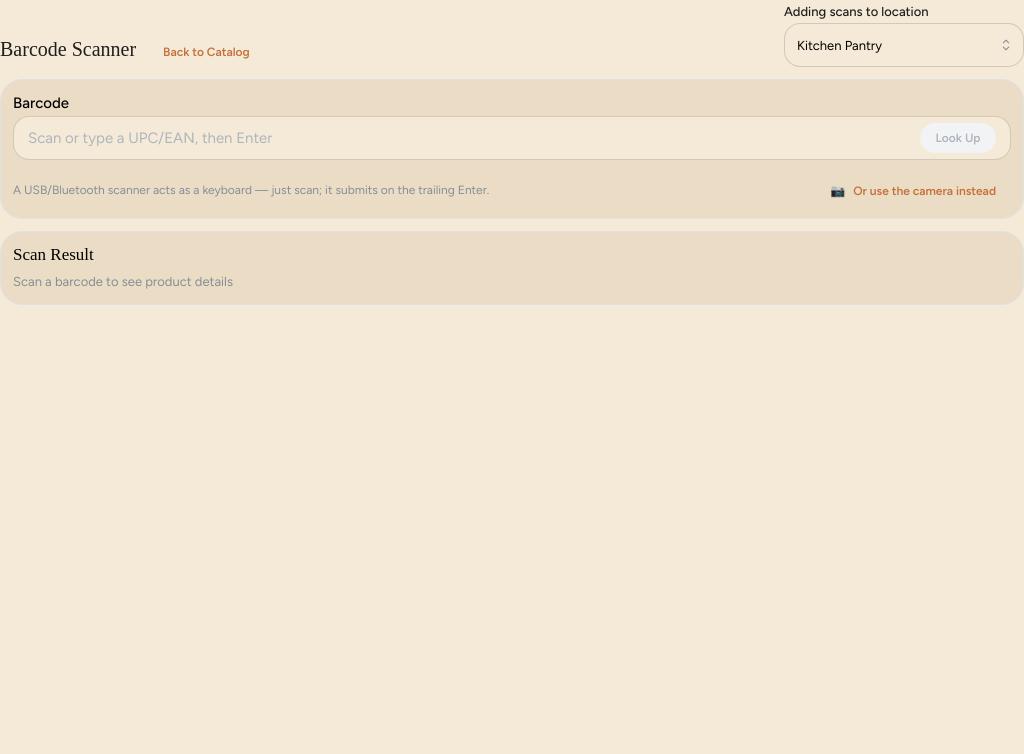
Test case: ScanPage best-by estimation › leaves best-by blank when the backend has nothing to say
Step 1. Type "111" into the field with placeholder "Scan or type a UPC/EAN, then Enter" → (512, 138), box left=13, top=116, right=1011, bottom=160
Then press Enter
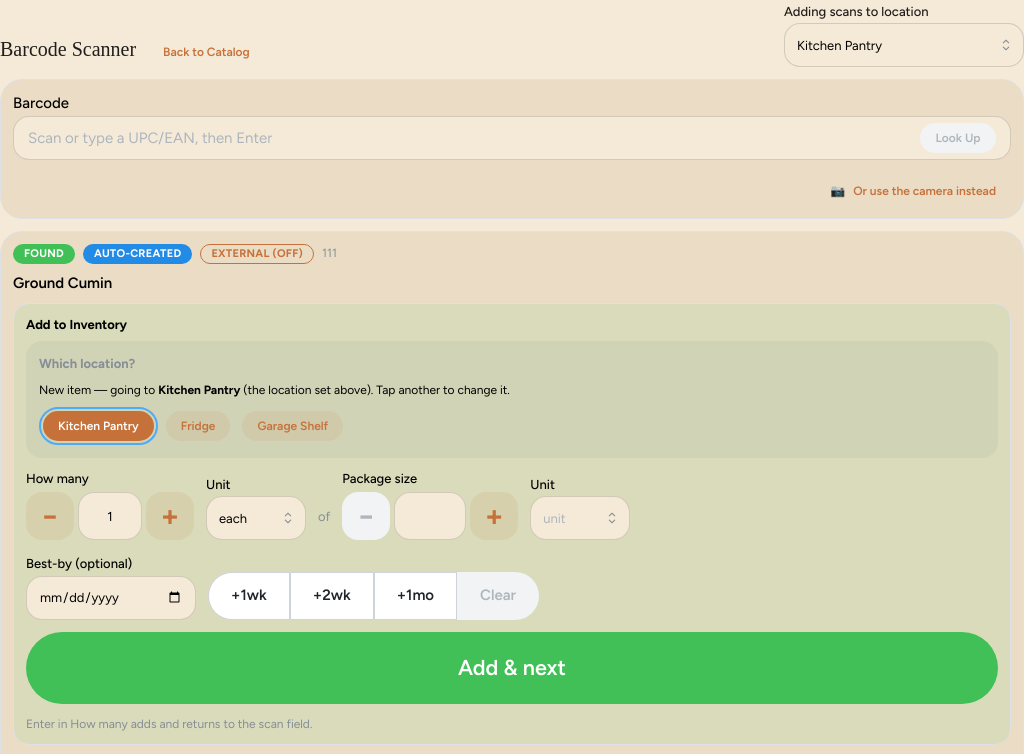
Result: the text "going to" is shown at left=39, top=383, right=158, bottom=397
Result: the date field labelled "Best-by (optional)" is empty at left=26, top=576, right=196, bottom=620
